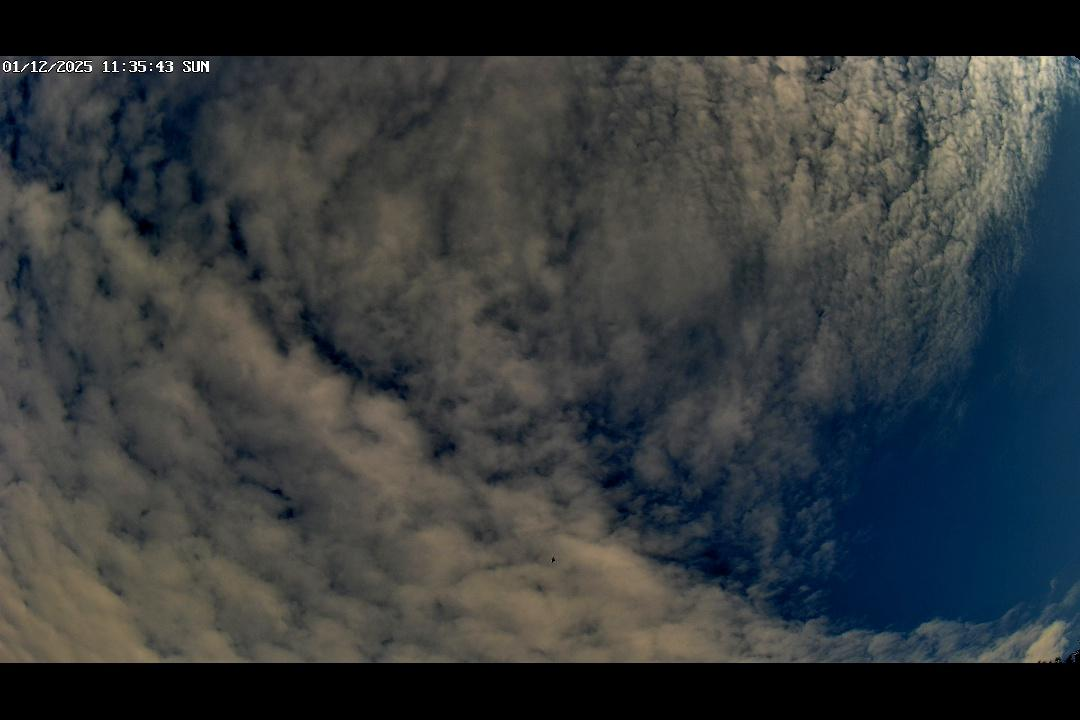WildLife: (547, 554, 569, 567)
